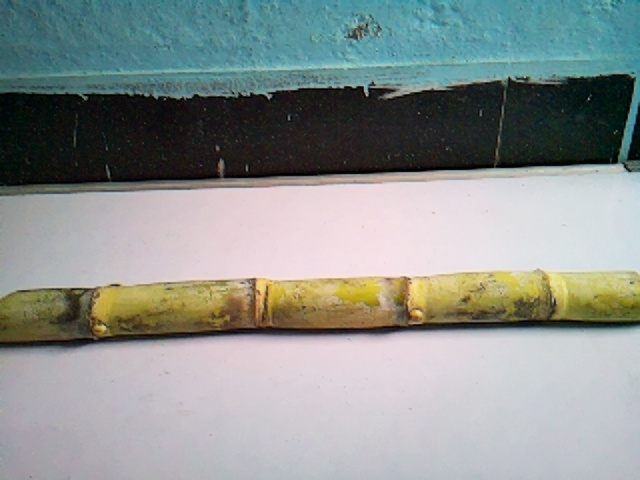Good Sugarcane: (0, 269, 640, 344)
Node: (69, 282, 123, 344), (519, 267, 570, 326), (236, 274, 284, 331), (387, 271, 433, 328)
